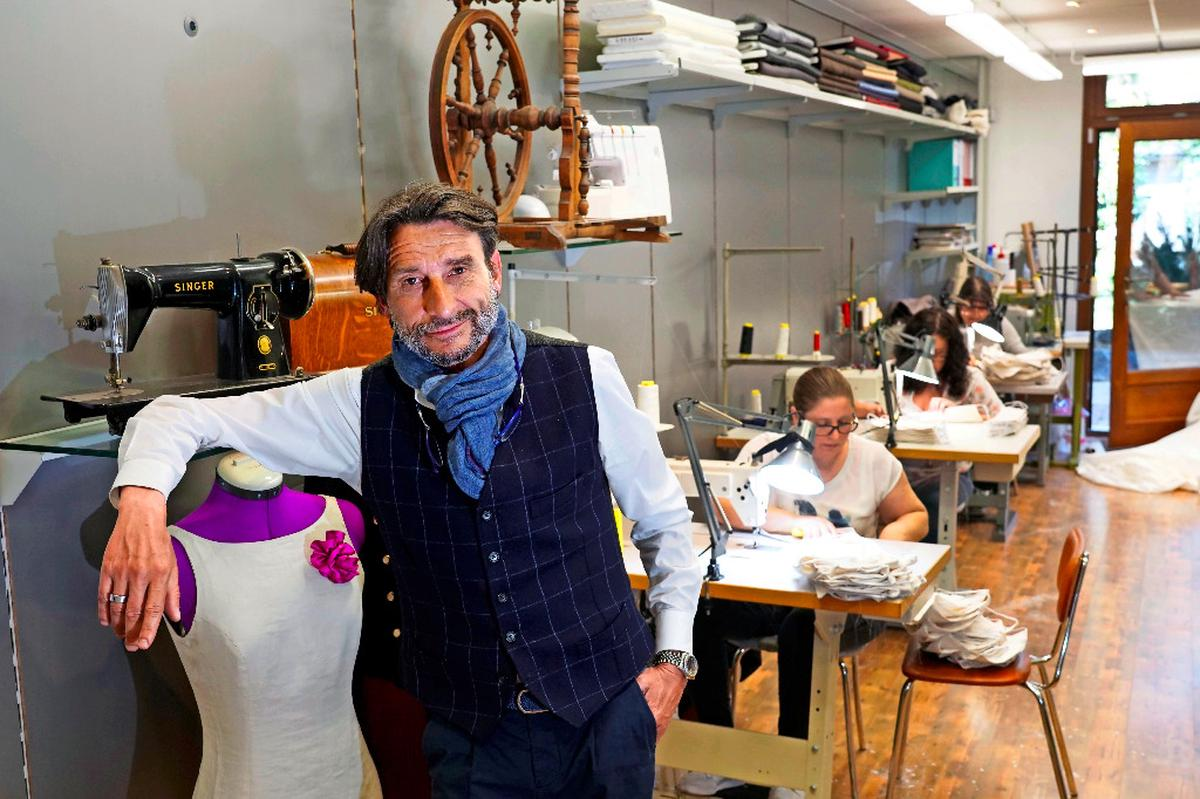without_mask: (385, 250, 493, 360), (807, 404, 852, 460)
